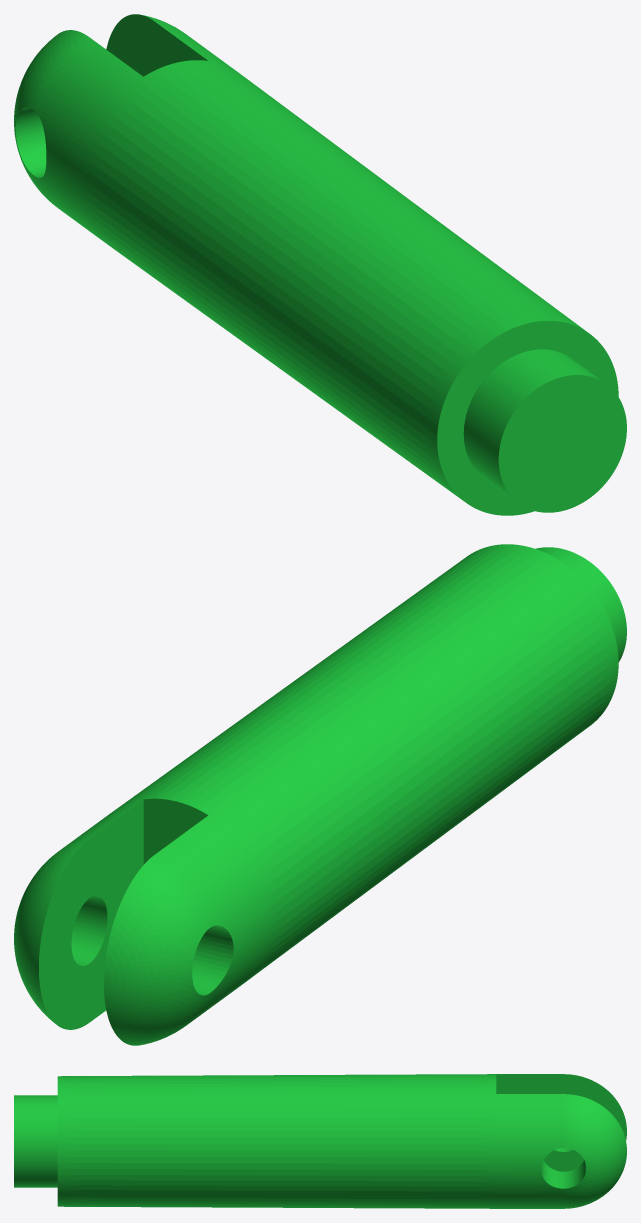
The picture shows the model from 3 angles, top to bottom: view 1: azimuth 30°, elevation 25°; view 2: azimuth 150°, elevation 25°; view 3: azimuth 270°, elevation 25°; orthographic projection. The views are drawn at different scales.
Visible parts, largest first — view 1: node; view 2: node; view 3: node.
Boxes of the visible parts, left/top/right/bottom form: node: left=14, top=14, right=626, bottom=515; node: left=14, top=544, right=626, bottom=1045; node: left=14, top=1074, right=626, bottom=1208.
Size of the model in its own units: 0.0768 by 0.0767 by 0.3492.
